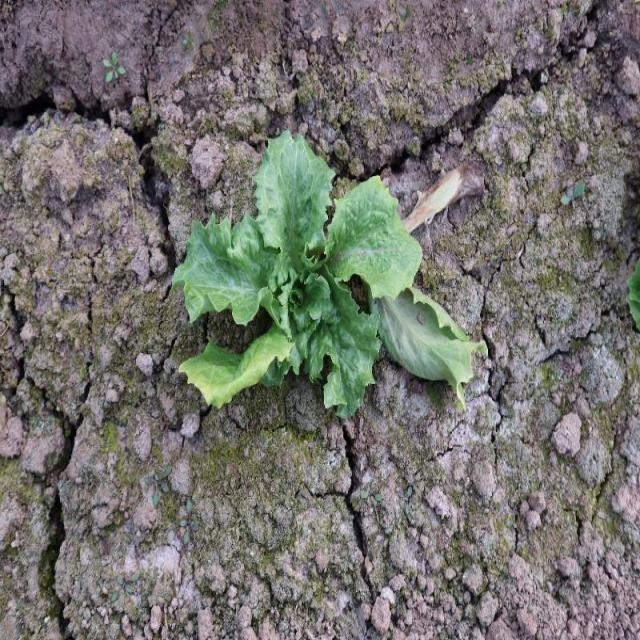crop: (178, 134, 429, 420)
